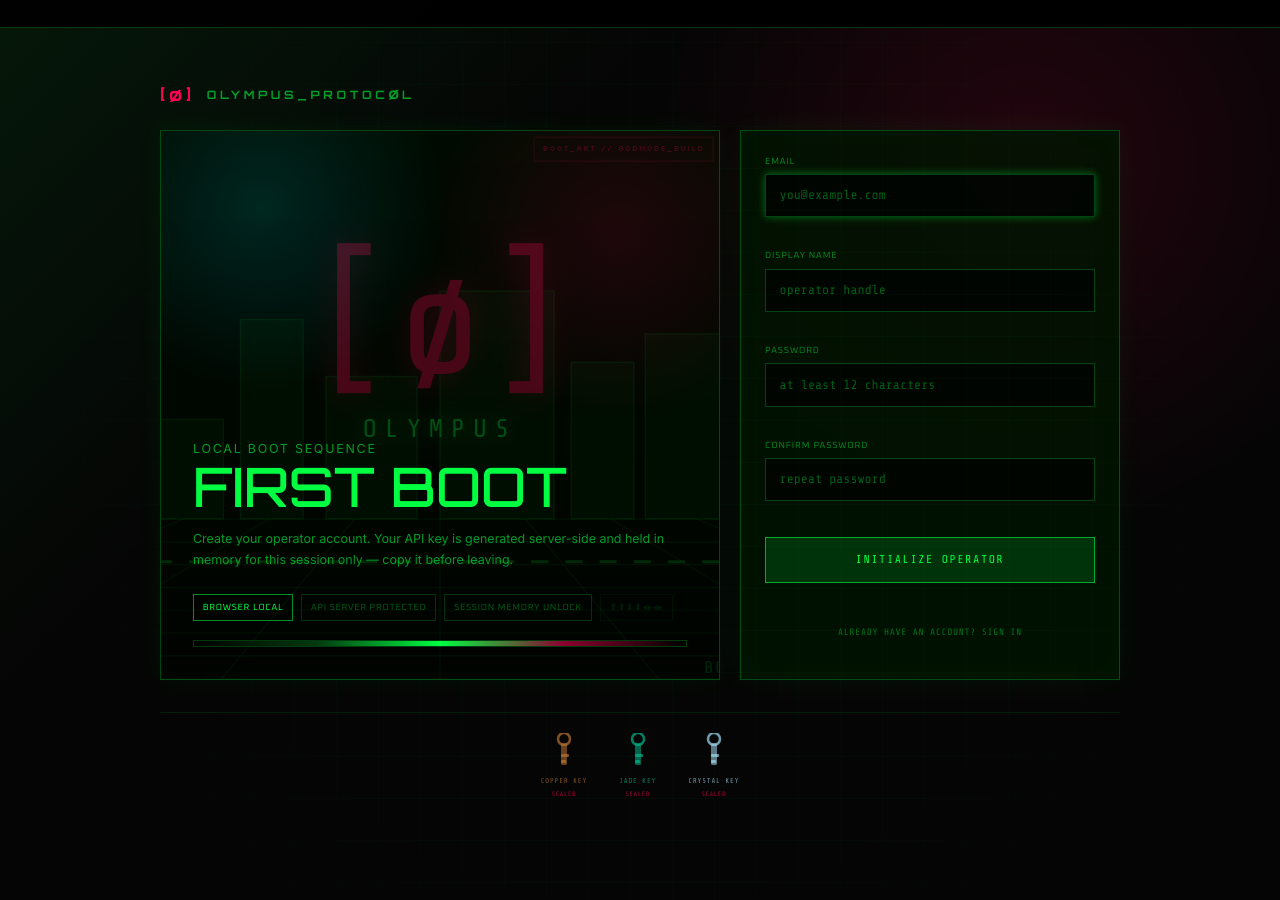
Scenario: <StartupGate> › setup form rejects an invalid email
Expected: the heading "FIRST BOOT" is shown, left=193, top=452, right=567, bottom=520
Type "not-an-email" into the field with placeholder "you@example.com".
click(930, 196); type("not-an-email")  # box left=765, top=174, right=1095, bottom=217
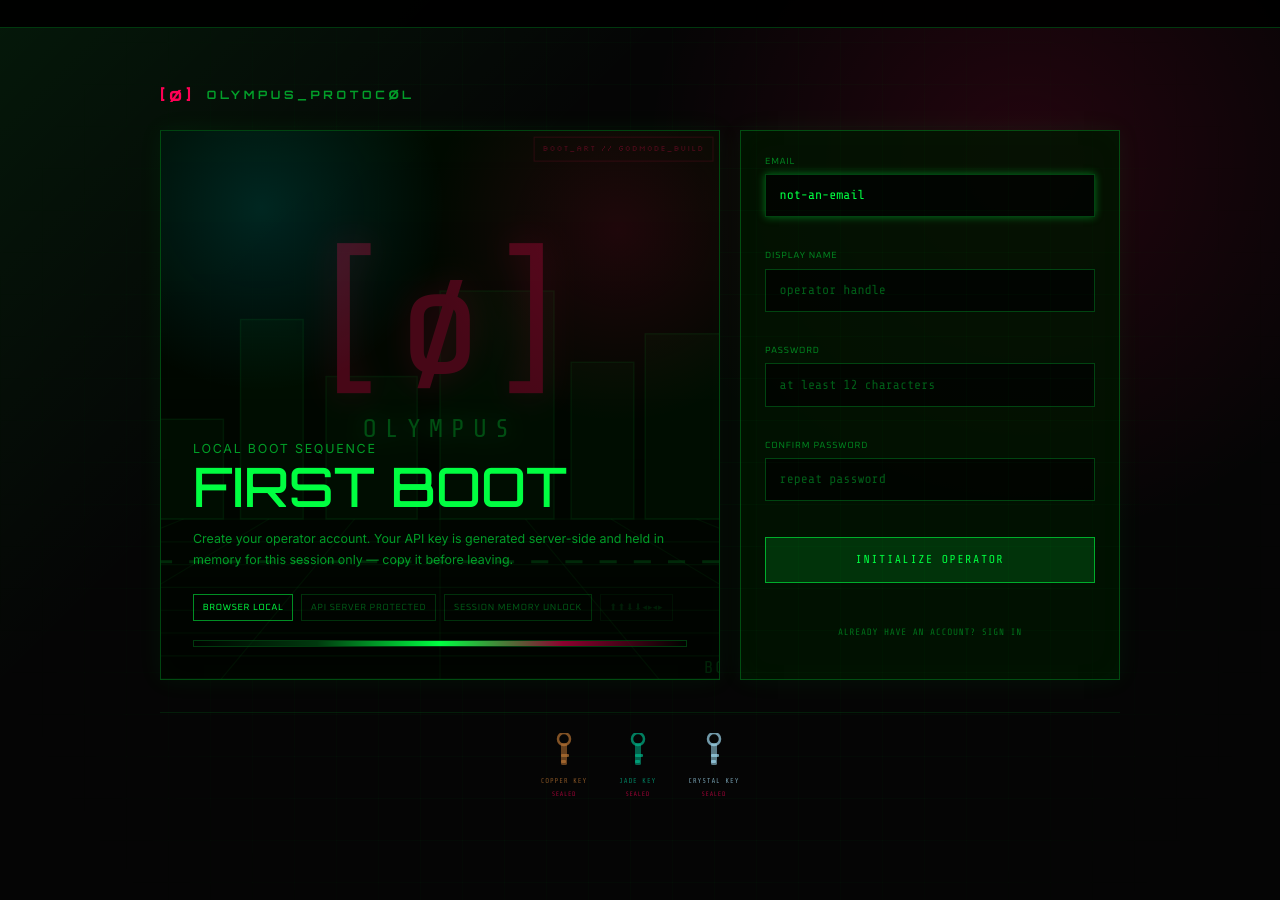
Type "longenoughpw1234" into the password field with placeholder "at least 12 characters".
click(930, 385); type("longenoughpw1234")  # box left=765, top=363, right=1095, bottom=406
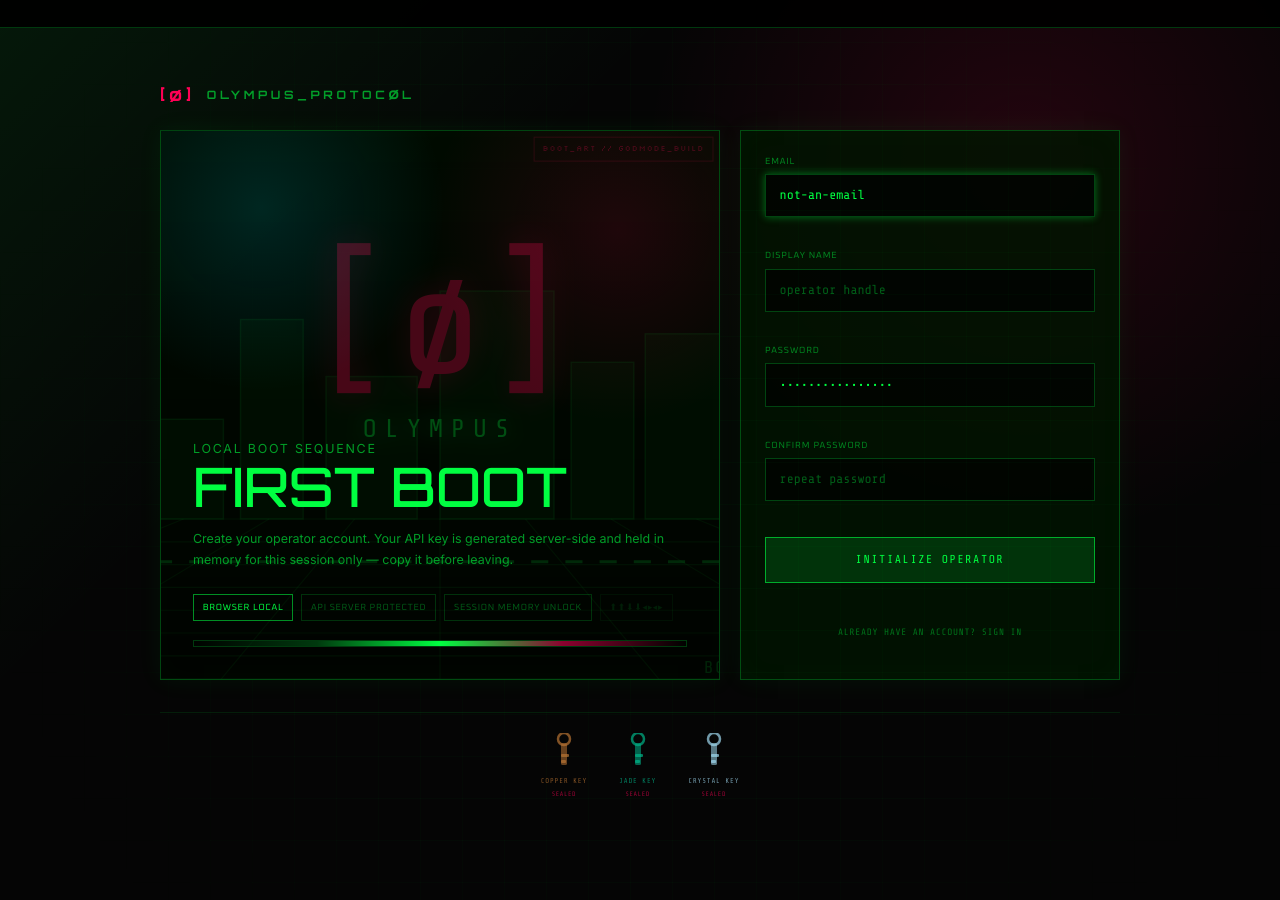
Type "longenoughpw1234" into the password field with placeholder "repeat password".
click(930, 480); type("longenoughpw1234")  # box left=765, top=458, right=1095, bottom=501
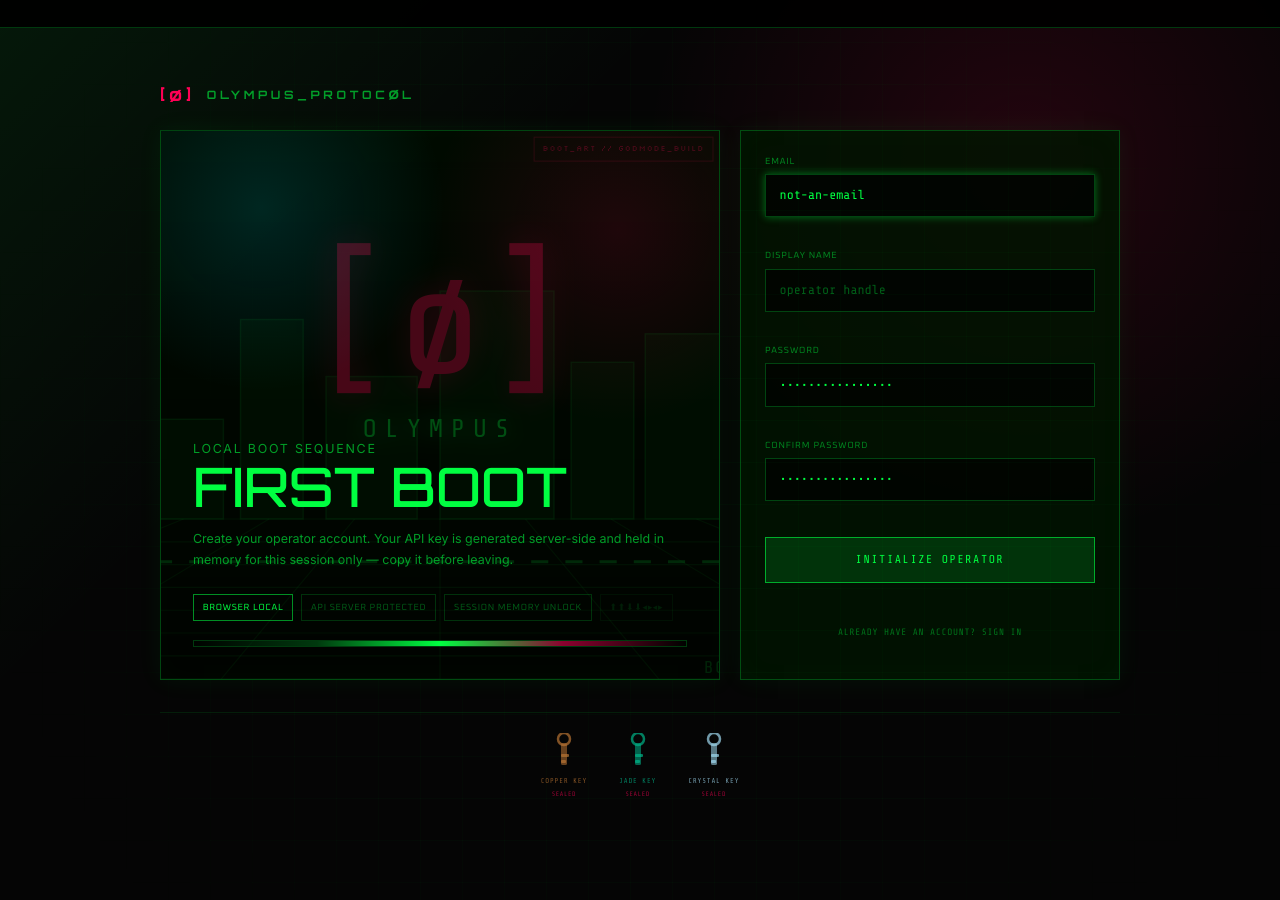
Submit the form with placeholder "you@example.com", box left=740, top=130, right=1120, bottom=680
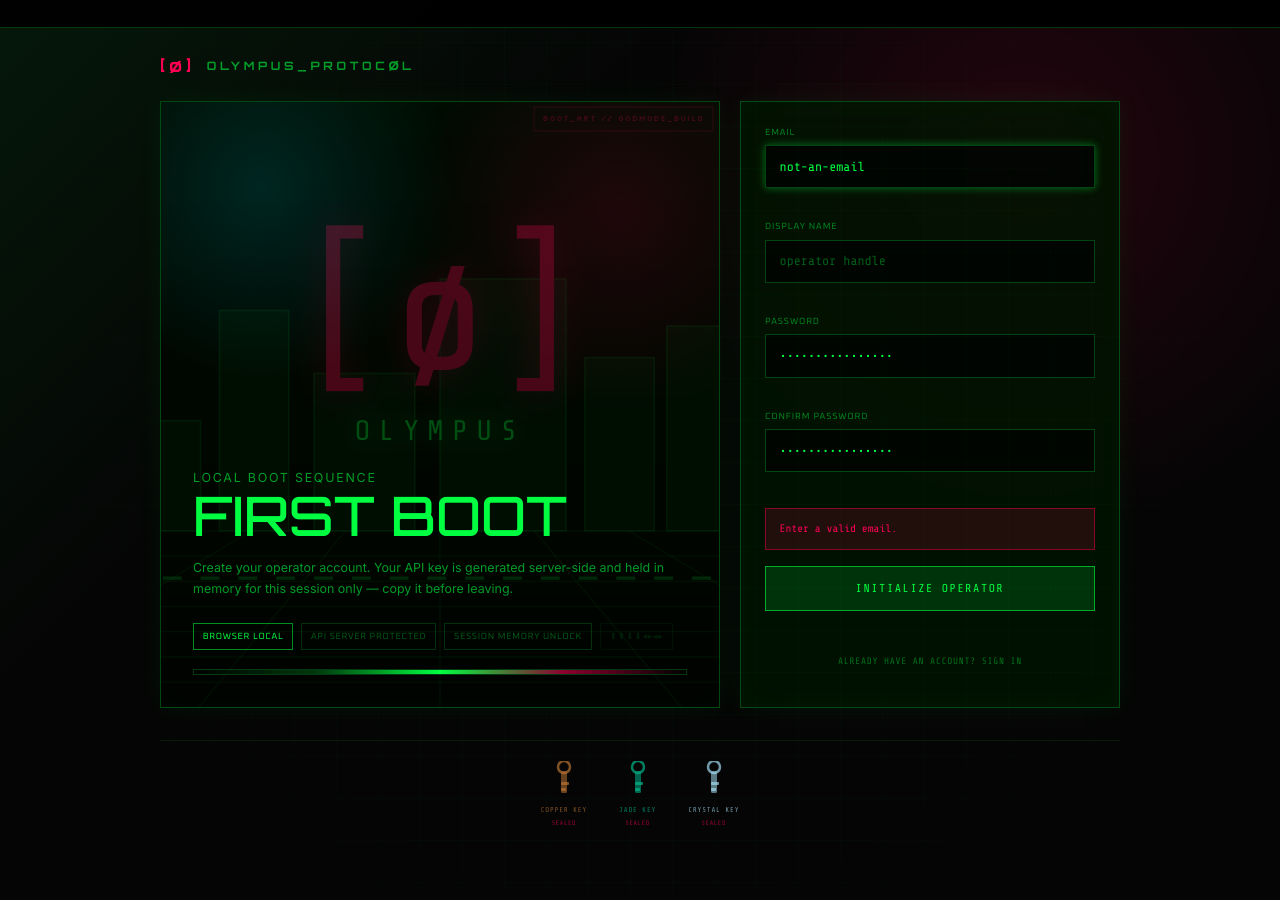
Expected: the text "Enter a valid email." is shown, left=765, top=508, right=1095, bottom=550
